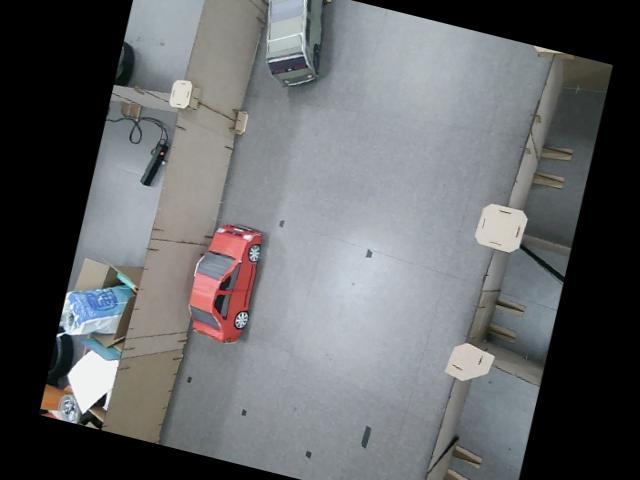car: (178, 217, 269, 346), (247, 0, 338, 92)
